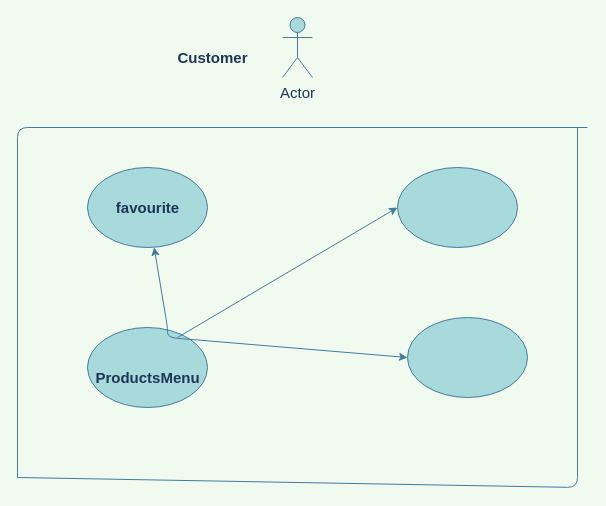
Image size: 606x506. Some labels were removed from this diagram. Each missing label, with the box of its shape:
CartShop: (396, 166, 518, 248)
orders: (406, 316, 528, 398)
